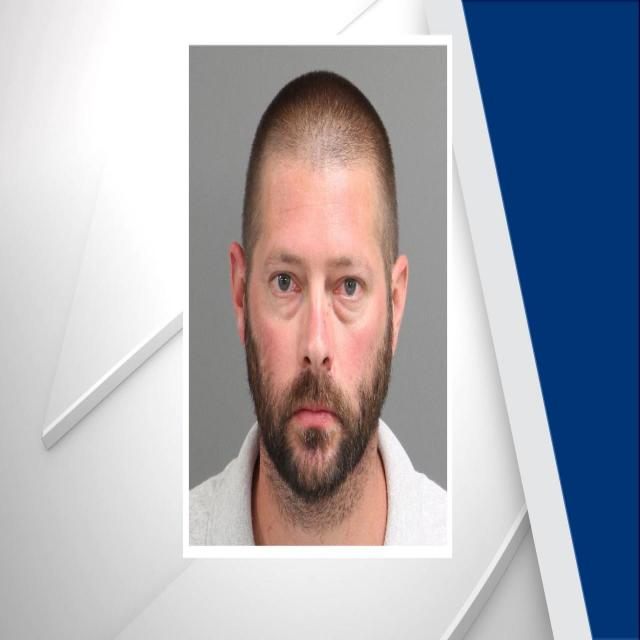human: (199, 59, 447, 545)
